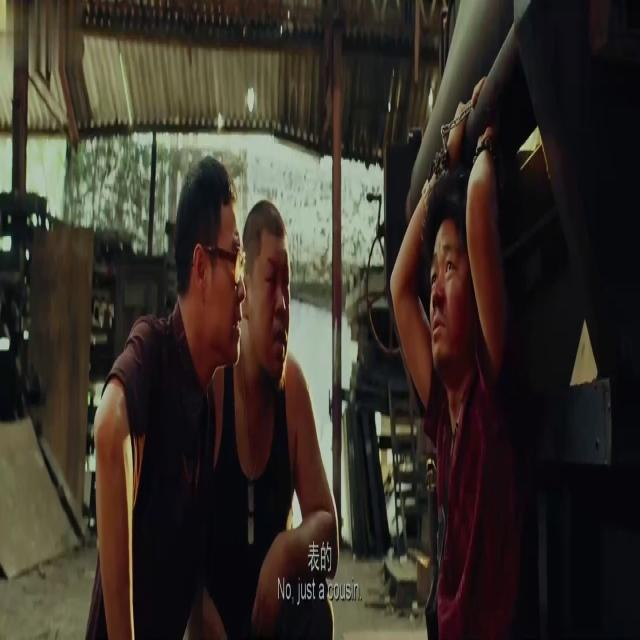non-fight: (82, 146, 244, 638), (181, 190, 339, 640)
